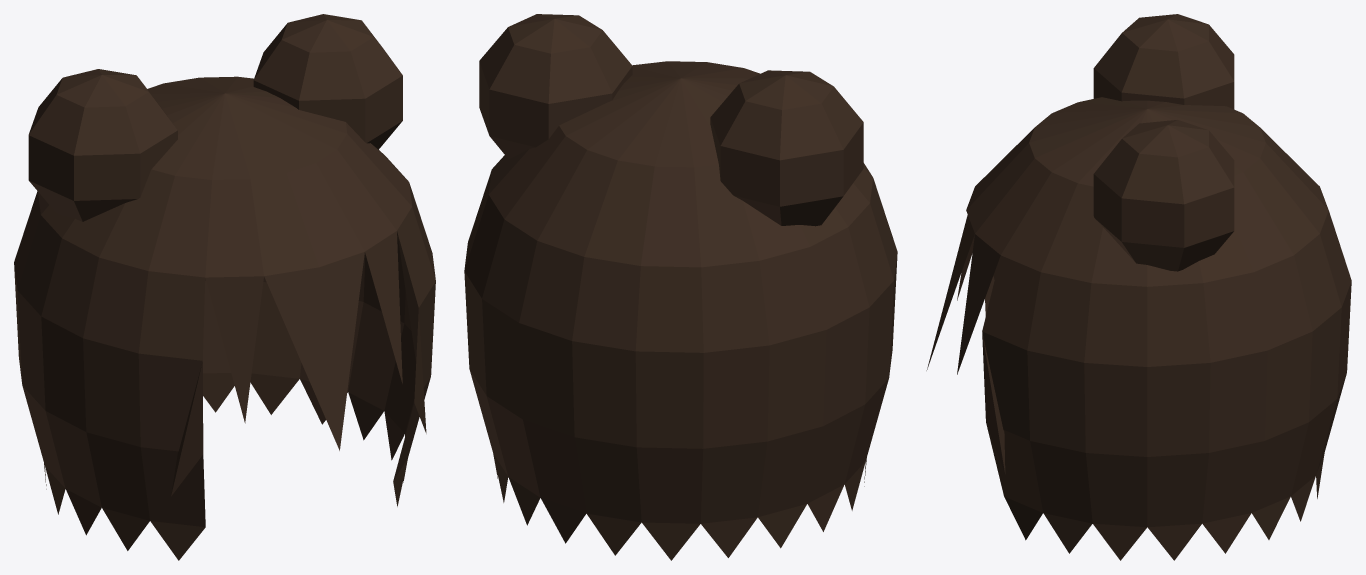
File: hair_bun.glb
3 renders of one model, left to right at view 1: azimuth 30°, elevation 25°; view 2: azimuth 150°, elevation 25°; view 3: azimuth 270°, elevation 25°, orthographic. The views are drawn at different scales.
Parts seen in each view (by area): view 1: hair; view 2: hair; view 3: hair.
Part boxes in pixels (x1,y1,x2,y2): hair: [14, 14, 435, 560]; hair: [464, 14, 897, 560]; hair: [926, 14, 1351, 560].
Bounding box in the file's own units: 0.604 × 0.68 × 0.629.
